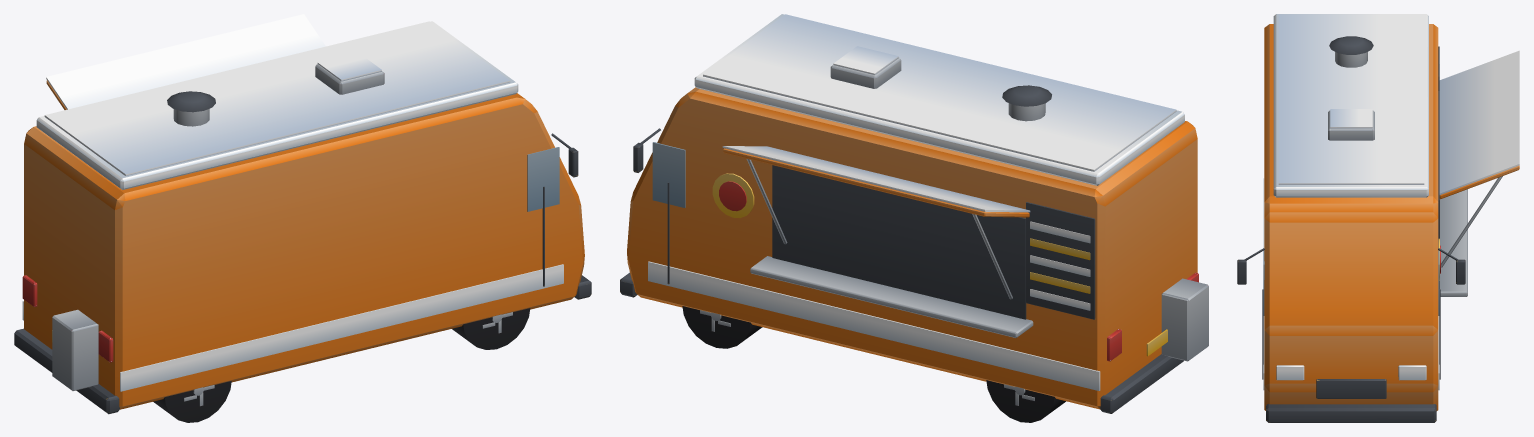
The model's file is ck_food_truck.fbx.
The picture shows the model from 3 angles, left to right: view 1: azimuth 30°, elevation 25°; view 2: azimuth 150°, elevation 25°; view 3: azimuth 270°, elevation 25°; orthographic projection. The views are drawn at different scales.
Visible parts, largest first — view 1: ck_food_truck; view 2: ck_food_truck; view 3: ck_food_truck.
Part boxes in pixels (left/top/right/bottom): ck_food_truck: left=14, top=14, right=591, bottom=422; ck_food_truck: left=620, top=14, right=1208, bottom=422; ck_food_truck: left=1237, top=14, right=1519, bottom=422.
Bounding box in the file's own units: 2220 × 1182 × 1197.
